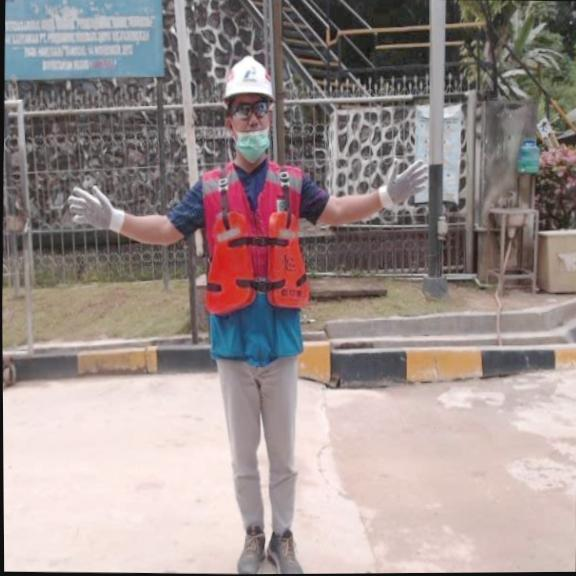safety_vest: (202, 205, 311, 317)
